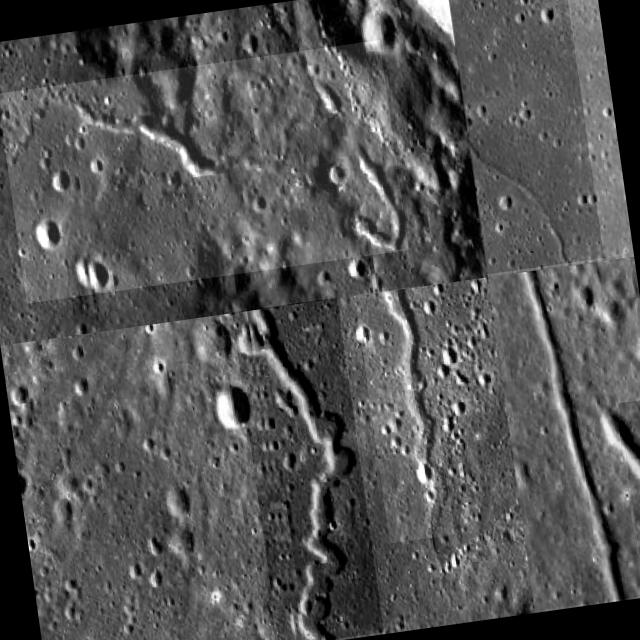rille: (0, 39, 409, 303), (232, 297, 384, 640), (494, 260, 640, 610), (446, 0, 604, 274), (356, 286, 456, 544), (598, 399, 640, 599)
